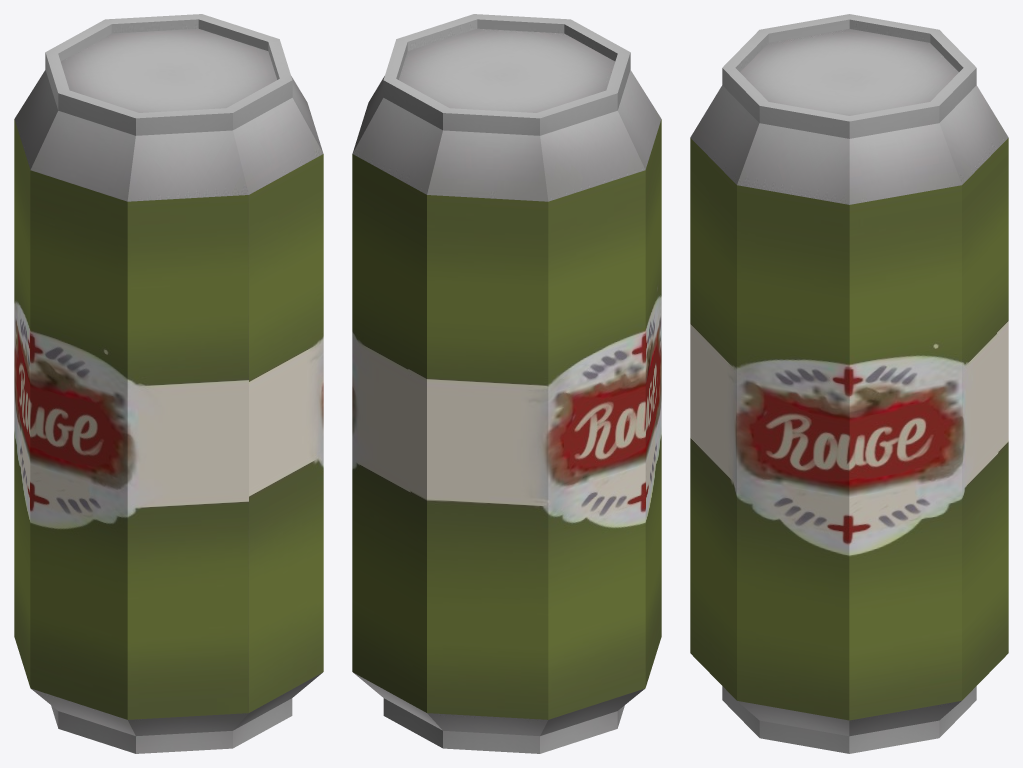
File: canned beer.fbx
3 renders of one model, left to right at view 1: azimuth 30°, elevation 25°; view 2: azimuth 150°, elevation 25°; view 3: azimuth 270°, elevation 25°, orthographic.
Parts seen in each view (by area): view 1: Cylinder; view 2: Cylinder; view 3: Cylinder.
Boxes of the visible parts, x1,y1,x2,y2 form: Cylinder: (14,14,323,753); Cylinder: (352,14,661,753); Cylinder: (690,14,1008,753).
Bounding box in the file's own units: 25.42 × 55.72 × 25.42.
Materials: 1 (1 with a texture image).
